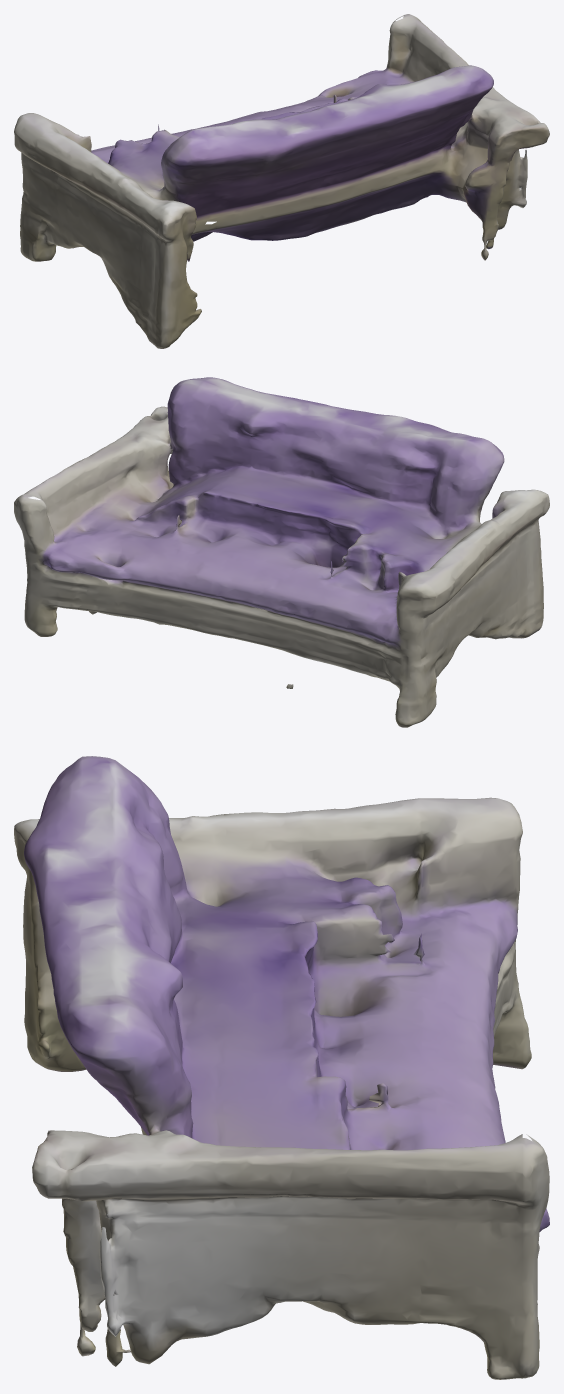
The model's file is sofa_ours.glb.
The picture shows the model from 3 angles, top to bottom: view 1: azimuth 30°, elevation 25°; view 2: azimuth 150°, elevation 25°; view 3: azimuth 270°, elevation 25°; orthographic projection. The views are drawn at different scales.
Bounding box in the file's own units: 1.11 × 0.4906 × 0.6851.
